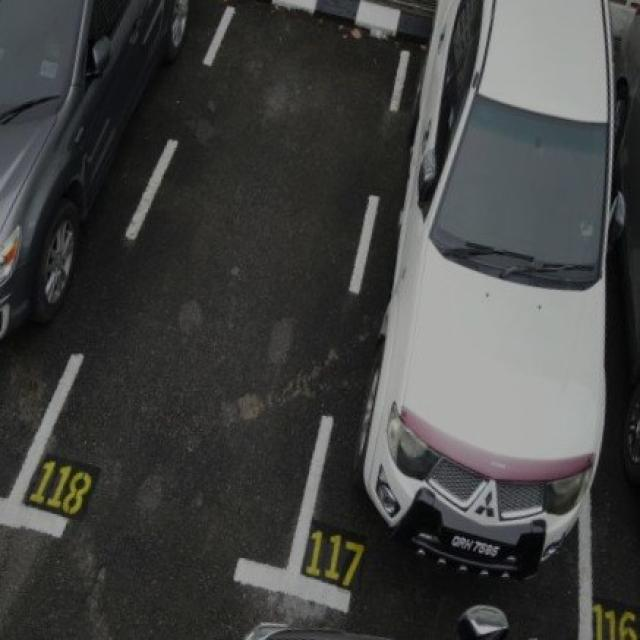Legalparking: (359, 0, 622, 576), (0, 0, 186, 337)
